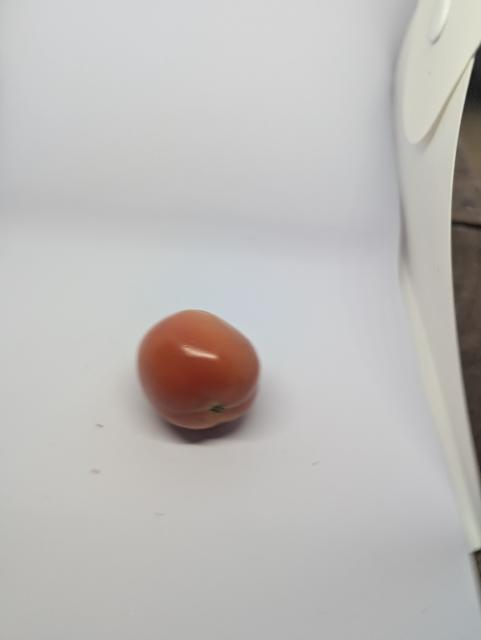red: (136, 308, 264, 433)
